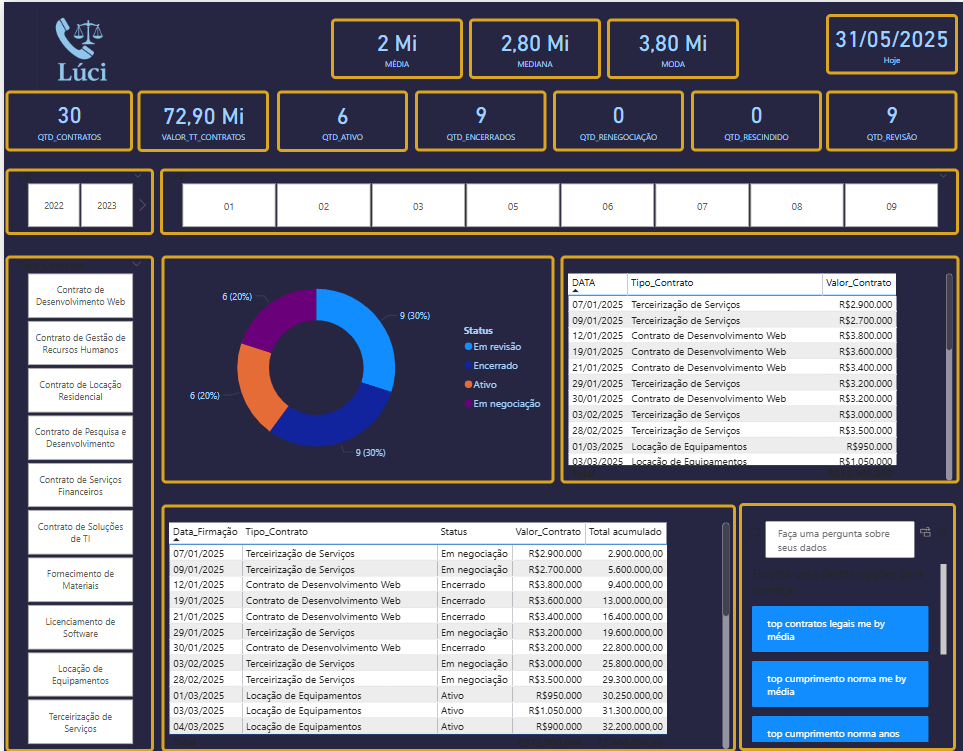

The page's visual inventory and layout, read from the dashboard file:
{"tool":"powerbi","page":{"name":"CONTRATOS_LEGAIS","canvas":[1280,1000],"ordinal":0},"visuals":[{"type":"card","fields":{"Values":["1 MEDIDAS CONTRATOS.QTD_CONTRATOS"]},"box":[2.2,117.8,170,81.1],"z":0},{"type":"card","fields":{"Values":["1 MEDIDAS CONTRATOS.VALOR_TT_CONTRATOS"]},"box":[181.9,117.8,175.6,82.2],"z":1000},{"type":"card","fields":{"Values":["1 MEDIDAS CONTRATOS.QTD_ENCERRADOS"]},"box":[551.1,117.8,175.6,81.1],"z":2000},{"type":"slicer","fields":{"Values":["Contratos_Legais.MES"]},"box":[208.9,222.2,1065.6,88.9],"z":3000},{"type":"slicer","fields":{"Values":["Contratos_Legais.ANO"]},"box":[2.2,222.2,197.8,88.9],"z":4000},{"type":"slicer","fields":{"Values":["Contratos_Legais.Tipo_Contrato"]},"box":[2.2,337.8,197.8,662.2],"z":5000},{"type":"card","fields":{"Values":["1 MEDIDAS CONTRATOS.QTD_ATIVO"]},"box":[367,117.8,174.4,82.2],"z":6000},{"type":"card","fields":{"Values":["1 MEDIDAS CONTRATOS.QTD_RENEGOCIAÇÃO"]},"box":[736.3,117.8,174.4,81.1],"z":7000},{"type":"card","fields":{"Values":["1 MEDIDAS CONTRATOS.QTD_RESCINDIDO"]},"box":[920.4,117.8,174.4,81.1],"z":8000},{"type":"card","fields":{"Values":["1 MEDIDAS CONTRATOS.QTD_REVISÃO"]},"box":[1104.4,117.8,175.6,81.1],"z":9000},{"type":"tableEx","fields":{"Values":["Contratos_Legais.DATA.Variation.Hierarquia de datas.Trimestre","Contratos_Legais.Tipo_Contrato","Sum(Contratos_Legais.Valor_Contrato)"]},"box":[741.5,337.9,531.9,303.7],"z":10000},{"type":"qnaVisual","box":[979.6,668.8,289.5,330.8],"z":11000},{"type":"tableEx","fields":{"Values":["Contratos_Legais.Data_Firmação","Contratos_Legais.Tipo_Contrato","Contratos_Legais.Status","Sum(Contratos_Legais.Valor_Contrato)","select"]},"box":[231,669,744,331],"z":12000},{"type":"donutChart","fields":{"Category":["Contratos_Legais.Status"],"Y":["CountNonNull(Contratos_Legais.Tipo_Contrato)"]},"box":[228.9,337.8,505.6,303.3],"z":13000},{"type":"card","fields":{"Values":["1 MEDIDAS CONTRATOS.MÉDIA"]},"box":[436.2,21.1,176,80.8],"z":14000},{"type":"card","fields":{"Values":["1 MEDIDAS CONTRATOS.MEDIANE"]},"box":[620.2,21.1,176,80.8],"z":15000},{"type":"card","fields":{"Values":["1 MEDIDAS CONTRATOS.MODA"]},"box":[804.1,21.1,176,80.8],"z":16000},{"type":"card","fields":{"Values":["1 MEDIDAS CONTRATOS.DataHoje"]},"box":[1104,16.3,176,80.8],"z":17000},{"type":"image","box":[0,0,209,133],"z":18000}]}

Visuals, with their boxes in screenshot pixels (x1, y1, x2, y2), scaled from the page's 1280x1000 canvas onto the 963x751 screenshot:
card - 1 MEDIDAS CONTRATOS.QTD_CONTRATOS: pyautogui.locateOnScreen(2, 88, 130, 149)
card - 1 MEDIDAS CONTRATOS.VALOR_TT_CONTRATOS: pyautogui.locateOnScreen(137, 88, 269, 150)
card - 1 MEDIDAS CONTRATOS.QTD_ENCERRADOS: pyautogui.locateOnScreen(415, 88, 547, 149)
slicer - Contratos_Legais.MES: pyautogui.locateOnScreen(157, 167, 959, 234)
slicer - Contratos_Legais.ANO: pyautogui.locateOnScreen(2, 167, 150, 234)
slicer - Contratos_Legais.Tipo_Contrato: pyautogui.locateOnScreen(2, 254, 150, 750)
card - 1 MEDIDAS CONTRATOS.QTD_ATIVO: pyautogui.locateOnScreen(276, 88, 407, 150)
card - 1 MEDIDAS CONTRATOS.QTD_RENEGOCIAÇÃO: pyautogui.locateOnScreen(554, 88, 685, 149)
card - 1 MEDIDAS CONTRATOS.QTD_RESCINDIDO: pyautogui.locateOnScreen(692, 88, 824, 149)
card - 1 MEDIDAS CONTRATOS.QTD_REVISÃO: pyautogui.locateOnScreen(831, 88, 962, 149)
tableEx - Contratos_Legais.DATA.Variation.Hierarquia de datas.Trimestre x Contratos_Legais.Tipo_Contrato: pyautogui.locateOnScreen(558, 254, 958, 482)
qnaVisual: pyautogui.locateOnScreen(737, 502, 955, 750)
tableEx - Contratos_Legais.Data_Firmação x Contratos_Legais.Tipo_Contrato: pyautogui.locateOnScreen(174, 502, 734, 750)
donutChart - Contratos_Legais.Status x CountNonNull(Contratos_Legais.Tipo_Contrato): pyautogui.locateOnScreen(172, 254, 553, 481)
card - 1 MEDIDAS CONTRATOS.MÉDIA: pyautogui.locateOnScreen(328, 16, 461, 77)
card - 1 MEDIDAS CONTRATOS.MEDIANE: pyautogui.locateOnScreen(467, 16, 599, 77)
card - 1 MEDIDAS CONTRATOS.MODA: pyautogui.locateOnScreen(605, 16, 737, 77)
card - 1 MEDIDAS CONTRATOS.DataHoje: pyautogui.locateOnScreen(831, 12, 962, 73)
image: pyautogui.locateOnScreen(0, 0, 157, 100)
